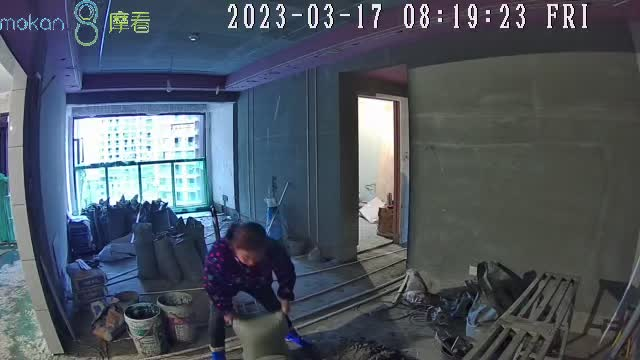people: (204, 221, 313, 360)
window: (72, 114, 207, 213)
